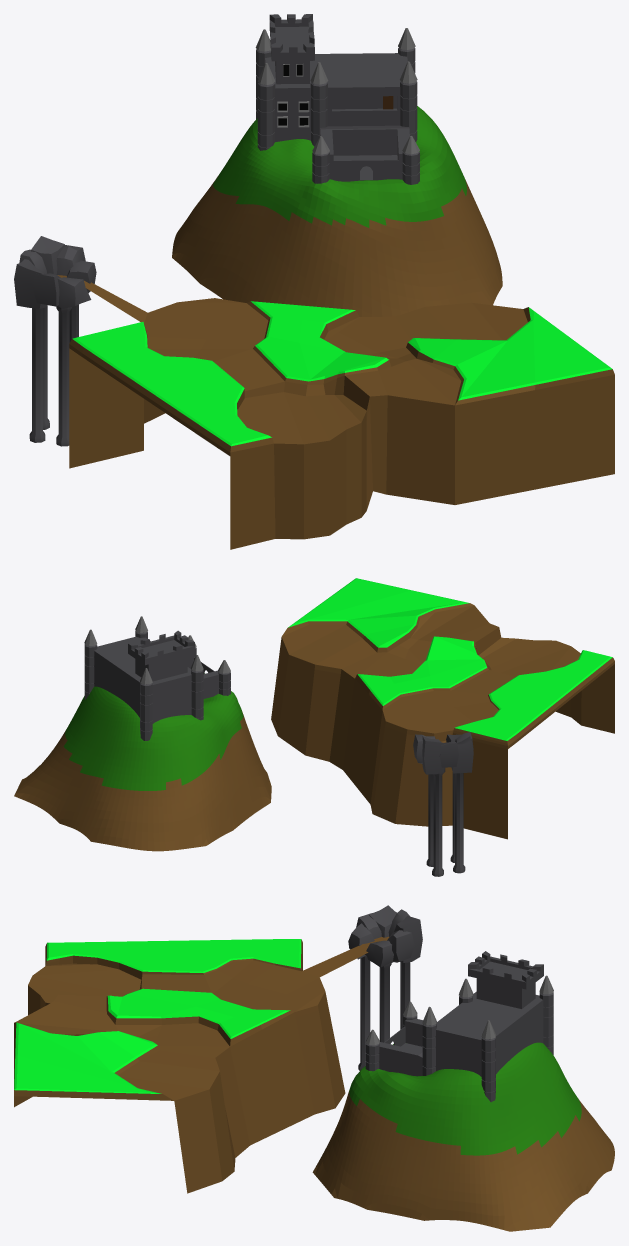
Rendered from Map_arborial_02.fbx.
3 renders of one model, top to bottom at view 1: azimuth 30°, elevation 25°; view 2: azimuth 150°, elevation 25°; view 3: azimuth 270°, elevation 25°, orthographic. The views are drawn at different scales.
Visible parts, largest first — view 1: Sphere; view 2: Sphere; view 3: Sphere.
Part boxes in pixels (x1=…): Sphere: x1=14, y1=14, x2=614, y2=549; Sphere: x1=14, y1=578, x2=614, y2=876; Sphere: x1=14, y1=905, x2=614, y2=1231.
Bounding box in the file's own units: 637 × 736 × 318.
